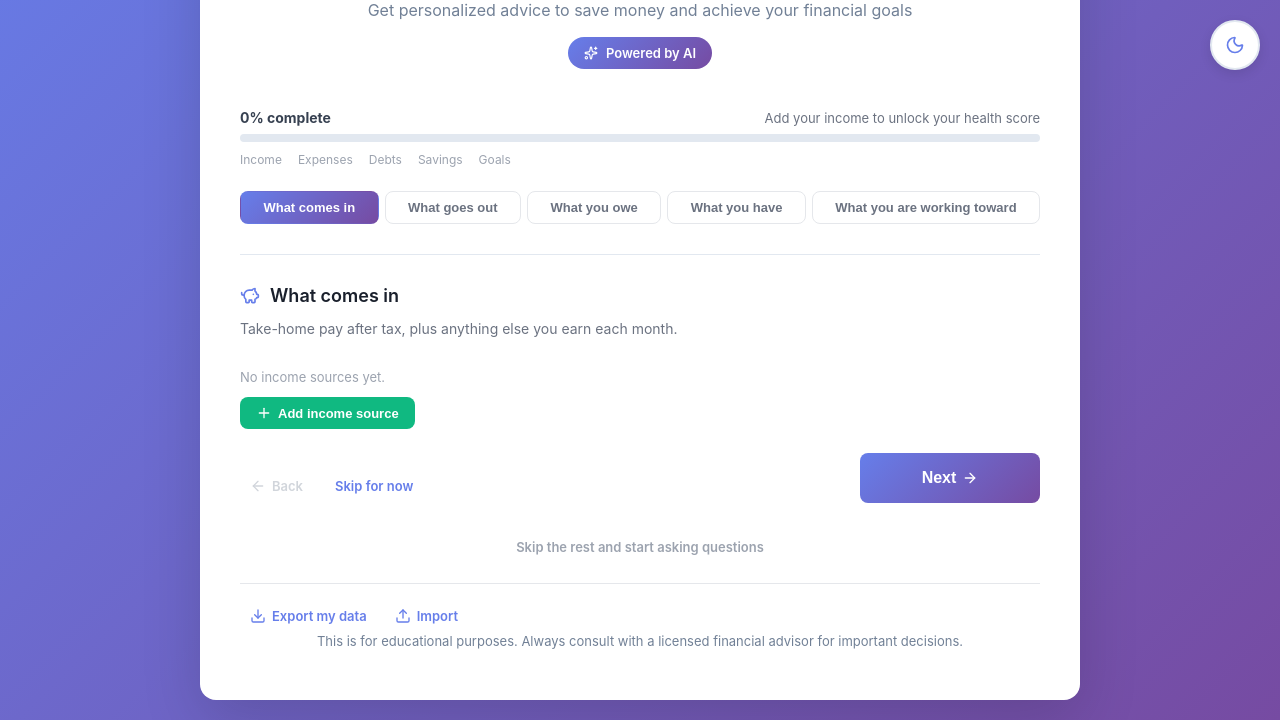
Test: chat › loads an example question into the input instead of sending it
(page scrolled)
Click the button "Skip the rest and start asking questions" at (640, 547), box [506, 531, 774, 563]
(page scrolled)
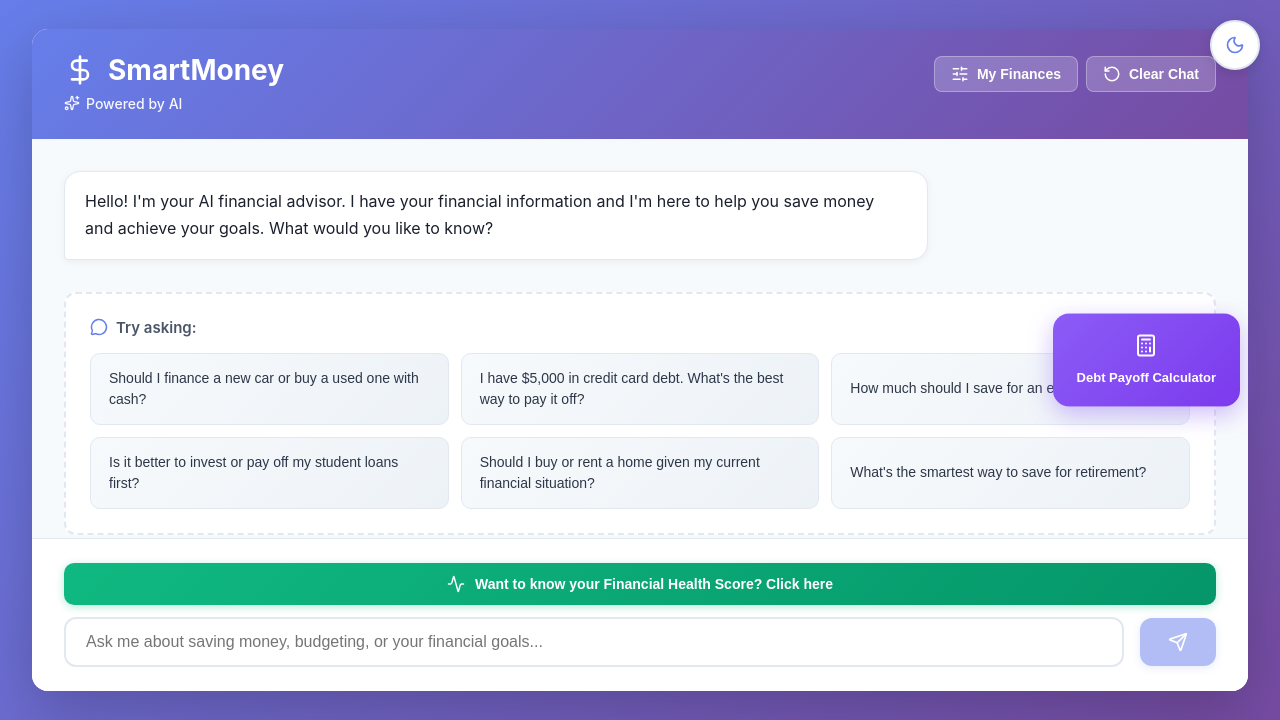
Click the button "How much should I save for an emergency fund?" at (1011, 389), box [831, 353, 1190, 425]
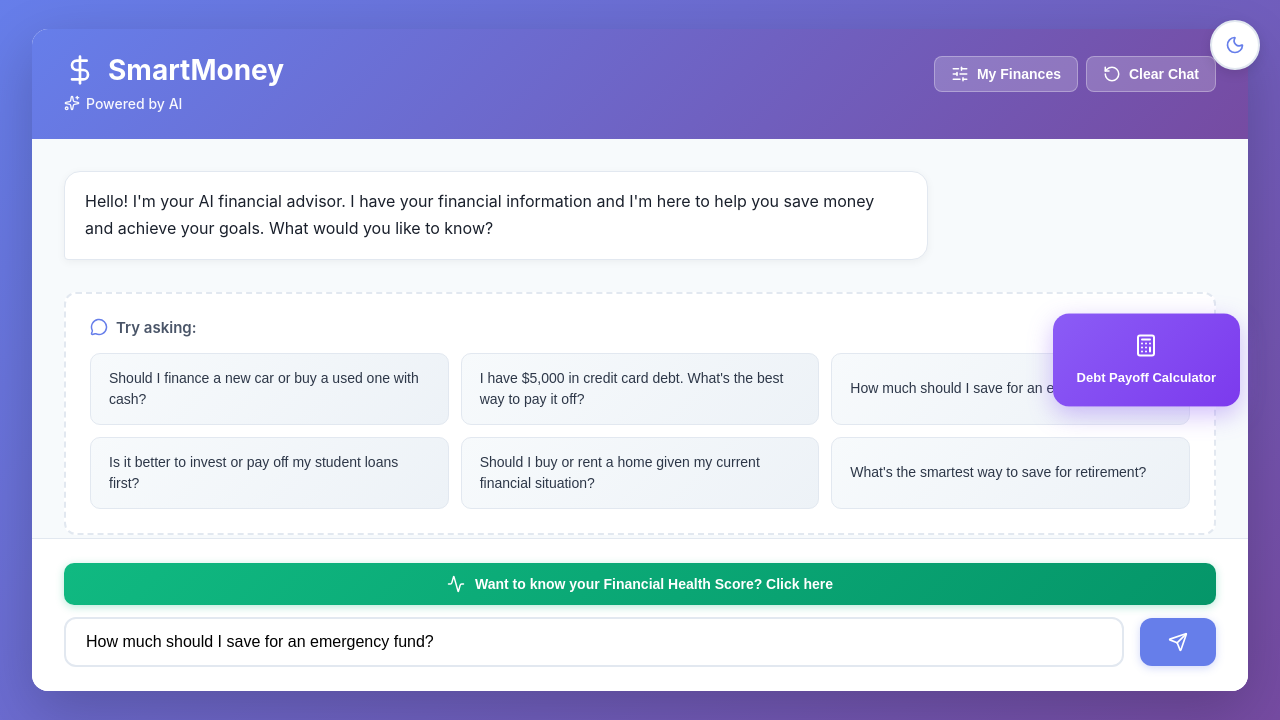
Expected: the field with placeholder "Ask me about saving money" holds "How much should I save for an emergency fund?", [64, 617, 1124, 667]
